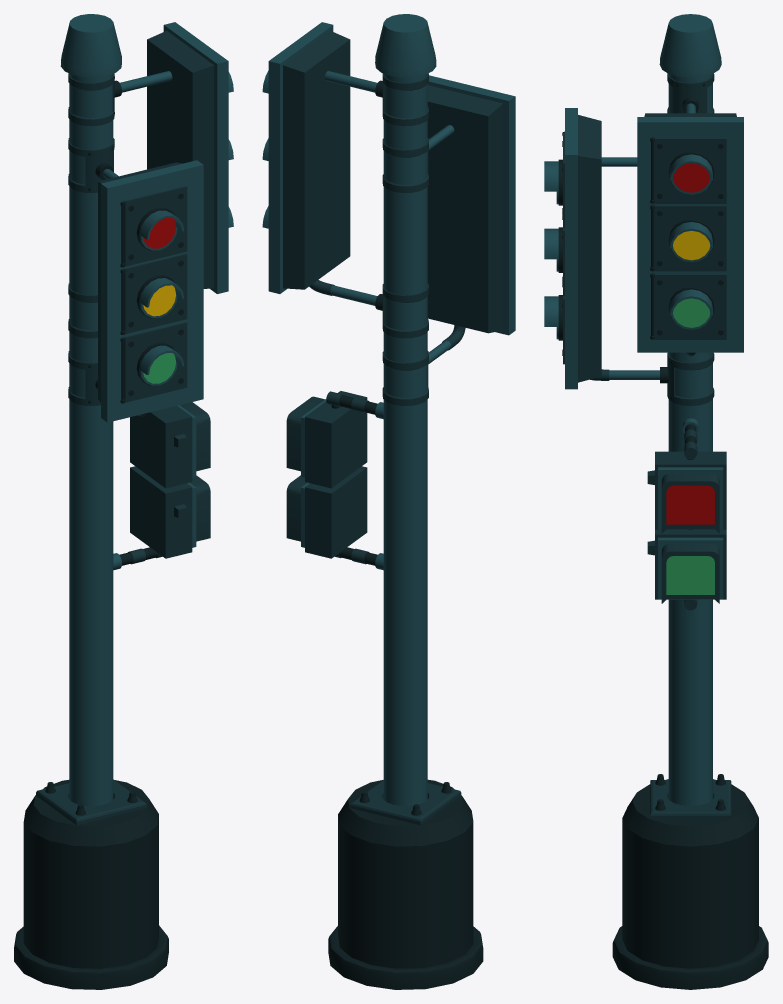
Rendered from светофор.fbx.
3 renders of one model, left to right at view 1: azimuth 30°, elevation 25°; view 2: azimuth 150°, elevation 25°; view 3: azimuth 270°, elevation 25°, orthographic.
Parts seen in each view (by area): view 1: Cylinder.001, Cylinder, Cube.005, Cube, Cube.003, Cube.002, Cube.004, Cube.010, Cube.011, Cube.012, Cube.006, Cylinder.029 (+13 smaller); view 2: Cylinder.001, Cylinder, Cube.001, Cube, Cube.002, Cube.003, Cube.004, Cube.005, Cube.006, Cube.015, Cube.016, Cylinder.003 (+3 smaller); view 3: Cylinder, Cylinder.001, Cube.004, Cube.001, Cube.005, Cube.008, Cube.009, Cube.007, Cube.017, Cube.006, Cube.018, Cube.002 (+15 smaller).
Part boxes in pixels (x1,y1,x2,y2): Cylinder.001: [60, 14, 121, 806]; Cylinder: [14, 780, 168, 989]; Cube.005: [101, 160, 203, 422]; Cube: [147, 30, 213, 288]; Cube.003: [130, 466, 192, 558]; Cube.002: [130, 406, 192, 488]; Cube.004: [163, 22, 228, 293]; Cube.010: [124, 186, 187, 266]; Cube.011: [124, 253, 187, 334]; Cube.012: [124, 322, 187, 402]; Cube.006: [36, 779, 146, 825]; Cylinder.029: [68, 138, 114, 192]; Cylinder.001: [375, 14, 436, 805]; Cylinder: [328, 779, 483, 989]; Cube.001: [427, 85, 502, 333]; Cube: [283, 31, 350, 289]; Cube.002: [305, 391, 367, 488]; Cube.003: [305, 466, 367, 558]; Cube.004: [268, 22, 333, 293]; Cube.005: [427, 75, 515, 335]; Cube.006: [350, 780, 461, 825]; Cube.015: [286, 396, 324, 471]; Cube.016: [286, 475, 306, 541]; Cylinder.003: [382, 283, 428, 338]; Cylinder: [612, 779, 768, 989]; Cylinder.001: [659, 14, 721, 805]; Cube.004: [637, 117, 743, 352]; Cube.001: [578, 115, 601, 382]; Cube.005: [565, 108, 577, 389]; Cube.008: [655, 204, 726, 271]; Cube.009: [655, 273, 726, 339]; Cube.007: [655, 137, 726, 203]; Cube.017: [666, 485, 714, 524]; Cube.006: [650, 780, 731, 818]; Cube.018: [666, 556, 714, 594]; Cube.002: [647, 451, 726, 529].
Size of the model in its own units: 225 by 1006 by 219.
